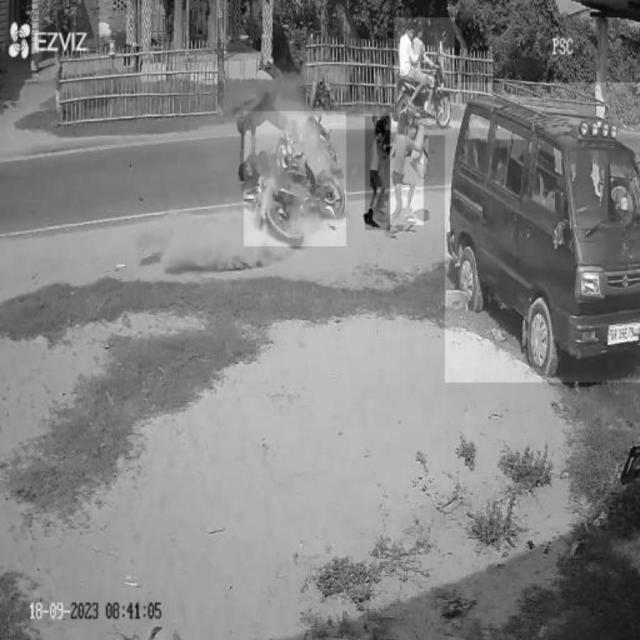accident: (244, 112, 346, 246)
person: (390, 112, 424, 225), (365, 117, 390, 230)
vehicle: (445, 83, 640, 383), (394, 17, 455, 135)
